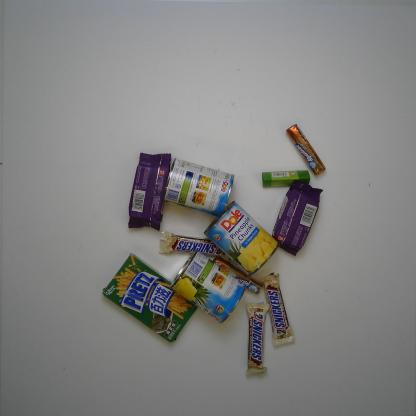Candy: (285, 123, 327, 177), (210, 256, 264, 296)
Canned Food: (167, 248, 248, 326), (202, 200, 280, 278), (161, 156, 236, 218)
Chocolate: (257, 271, 297, 348), (240, 299, 273, 378), (157, 230, 231, 263)
Dessert: (100, 252, 202, 344), (270, 178, 324, 257), (126, 150, 174, 233)
Stationery: (260, 169, 311, 189)
